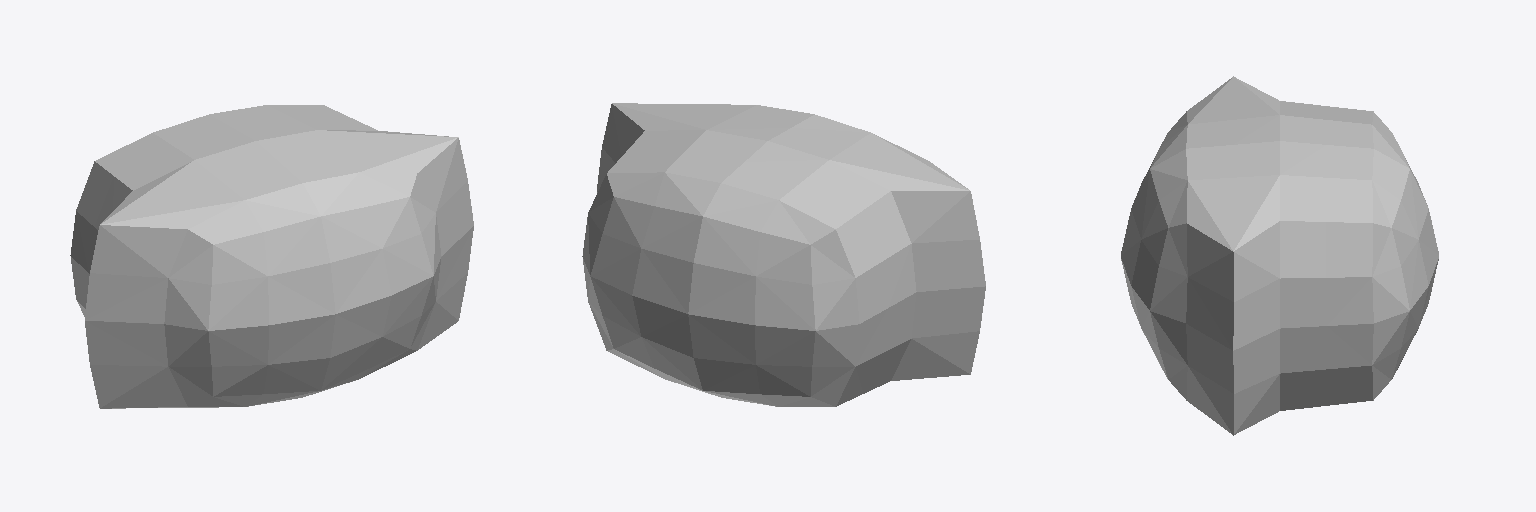
Rendered from squaremorph3.obj.
3 renders of one model, left to right at view 1: azimuth 30°, elevation 25°; view 2: azimuth 150°, elevation 25°; view 3: azimuth 270°, elevation 25°, orthographic.
Parts seen in each view (by area): view 1: Cube1; view 2: Cube1; view 3: Cube1.
Part boxes in pixels (x1,y1,x2,y2): Cube1: (70,105,473,408); Cube1: (582,103,985,406); Cube1: (1121,76,1438,435).
Bounding box in the file's own units: 1.33 × 0.75 × 0.9432.